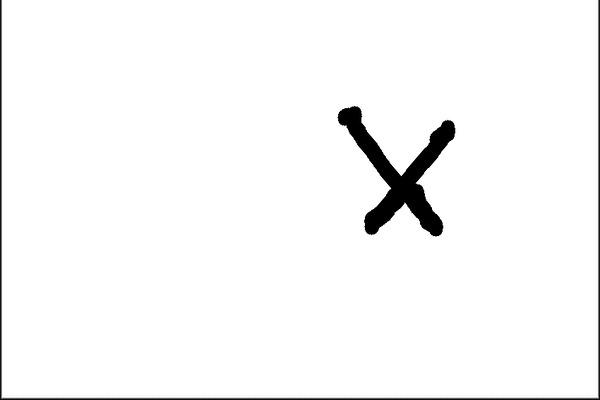X: (313, 83, 463, 251)
